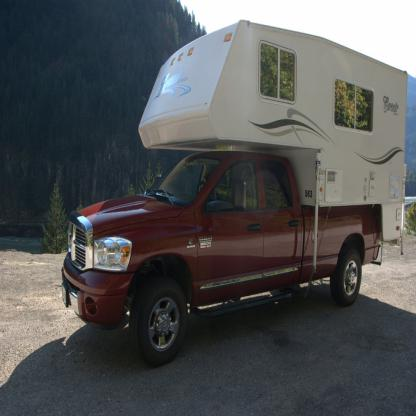Truck: (61, 20, 408, 368)
